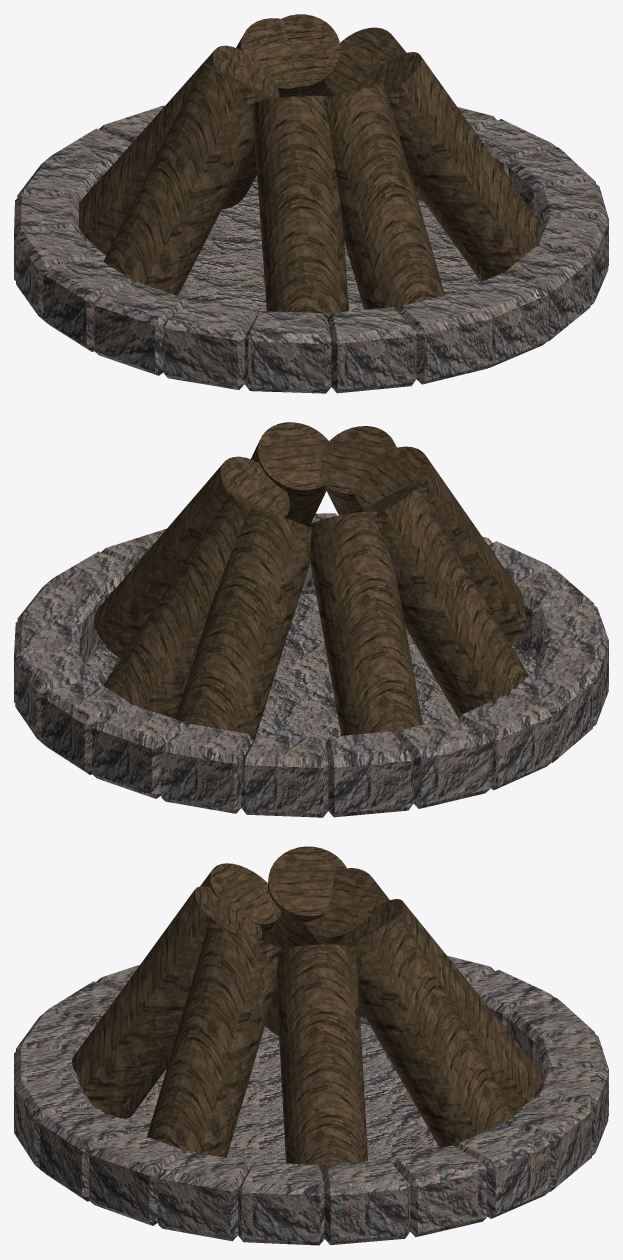
The model's file is camp.gltf.
The picture shows the model from 3 angles, top to bottom: view 1: azimuth 30°, elevation 25°; view 2: azimuth 150°, elevation 25°; view 3: azimuth 270°, elevation 25°; orthographic projection.
Visible parts, largest first — view 1: Cube, Cylinder.003, Cylinder.001, Cylinder.002, Cylinder, Circle; view 2: Cube, Cylinder.001, Cylinder.003, Cylinder, Cylinder.002, Circle; view 3: Cube, Cylinder.001, Cylinder, Cylinder.003, Cylinder.002, Circle.
Boxes of the visible parts, x1=… form: Cube: x1=14, y1=105, x2=608, y2=393; Cylinder.003: x1=78, y1=45, x2=542, y2=281; Cylinder.001: x1=103, y1=27, x2=508, y2=295; Cylinder.002: x1=252, y1=14, x2=348, y2=318; Cylinder: x1=222, y1=18, x2=444, y2=311; Circle: x1=85, y1=175, x2=480, y2=316; Cube: x1=14, y1=513, x2=608, y2=817; Cylinder.001: x1=94, y1=456, x2=528, y2=717; Cylinder.003: x1=251, y1=422, x2=422, y2=736; Cylinder: x1=175, y1=426, x2=396, y2=740; Cylinder.002: x1=103, y1=446, x2=526, y2=718; Circle: x1=85, y1=594, x2=535, y2=742; Cube: x1=14, y1=955, x2=608, y2=1245; Cylinder.001: x1=262, y1=846, x2=367, y2=1170; Cylinder: x1=72, y1=886, x2=542, y2=1118; Cylinder.003: x1=147, y1=868, x2=389, y2=1157; Cylinder.002: x1=165, y1=863, x2=515, y2=1147; Circle: x1=93, y1=1024, x2=534, y2=1167.
Size of the model in its own units: 5.87 by 2.5 by 5.87.
Materials: 2 (2 with a texture image).
